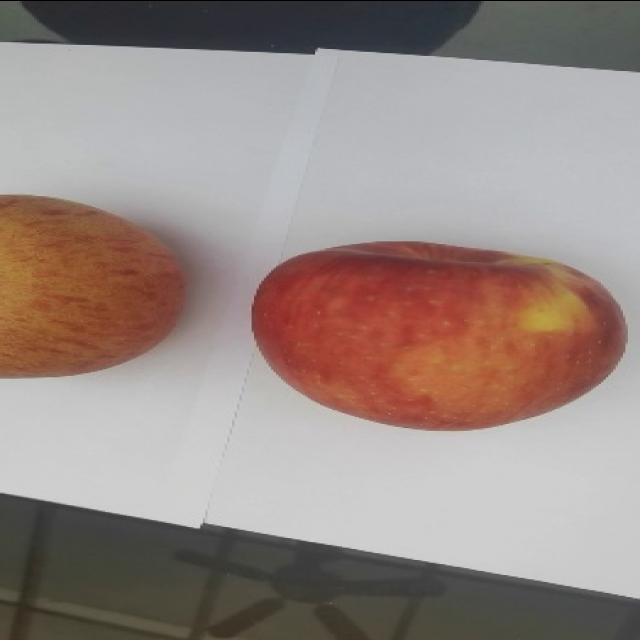Apple: (252, 229, 632, 434), (0, 194, 186, 384)
